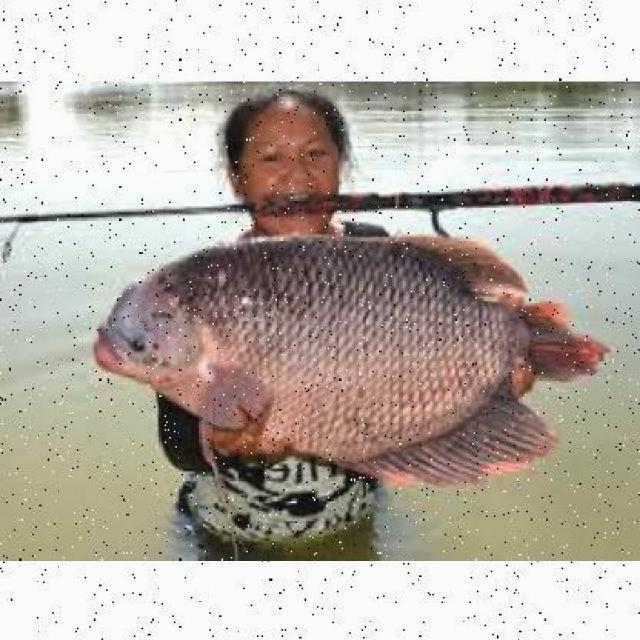gurame: (83, 232, 594, 494)
